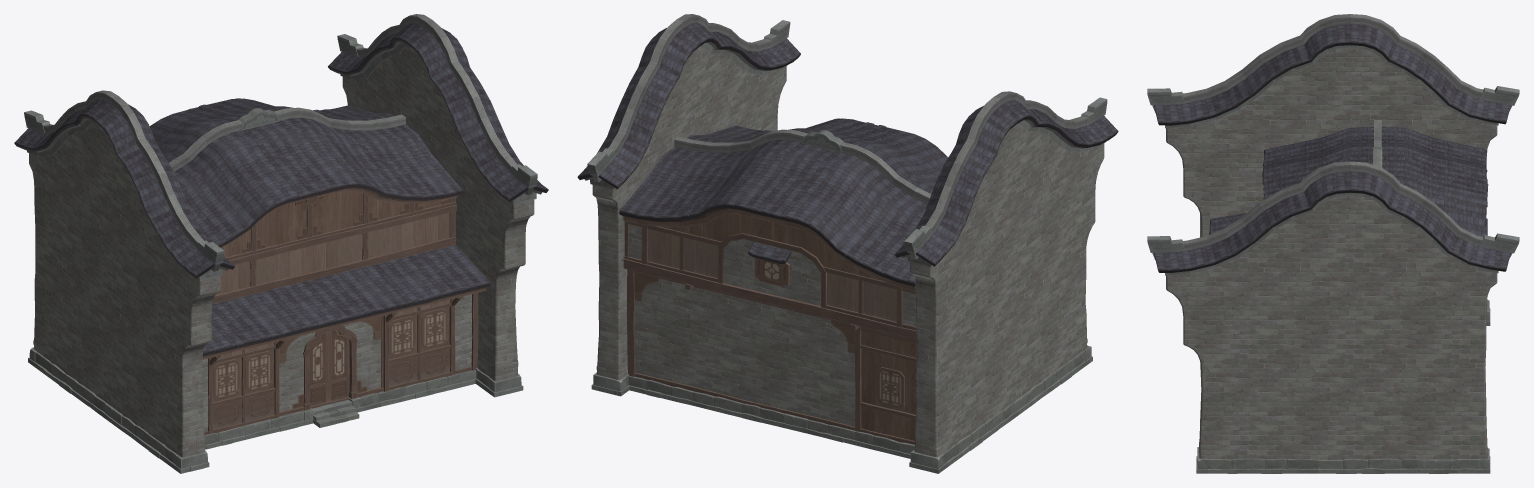
Rendered from Homeworld_Exterior_Cyg_Build_YlbHuishi_02_Lod0.fbx.
The picture shows the model from 3 angles, left to right: view 1: azimuth 30°, elevation 25°; view 2: azimuth 150°, elevation 25°; view 3: azimuth 270°, elevation 25°; orthographic projection. The views are drawn at different scales.
Visible parts, largest first — view 1: Area_Cyg_Build_QYZ_Comp_Huishi_B_01_Lod0; view 2: Area_Cyg_Build_QYZ_Comp_Huishi_B_01_Lod0; view 3: Area_Cyg_Build_QYZ_Comp_Huishi_B_01_Lod0.
Boxes of the visible parts, bbox=[...] form: Area_Cyg_Build_QYZ_Comp_Huishi_B_01_Lod0: bbox=[14, 14, 548, 473]; Area_Cyg_Build_QYZ_Comp_Huishi_B_01_Lod0: bbox=[577, 14, 1118, 473]; Area_Cyg_Build_QYZ_Comp_Huishi_B_01_Lod0: bbox=[1147, 14, 1519, 473].
Size of what is drawn, in the model's own units: 15.59 by 13.18 by 14.64.
